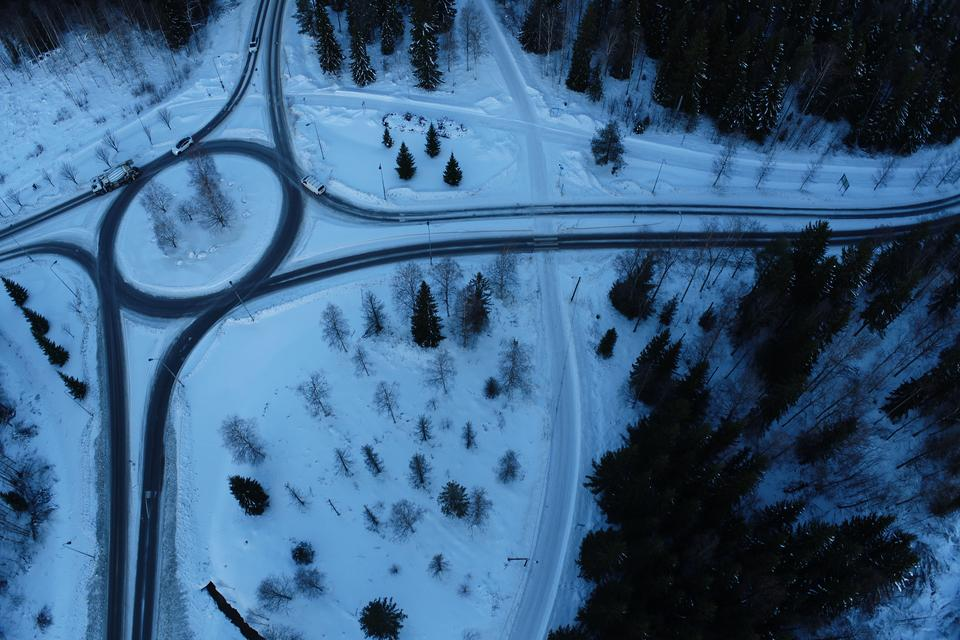intersection: (186, 64, 319, 120), (516, 185, 576, 270)
roundabout: (60, 123, 326, 337)
